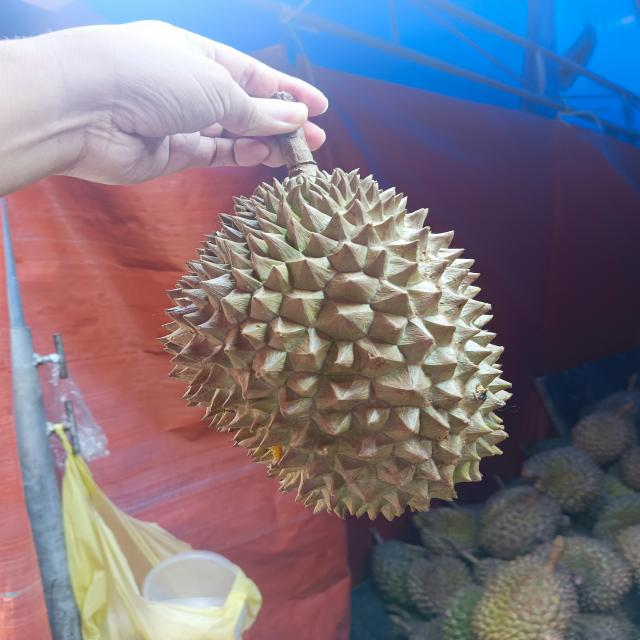mature: (155, 164, 510, 518)
